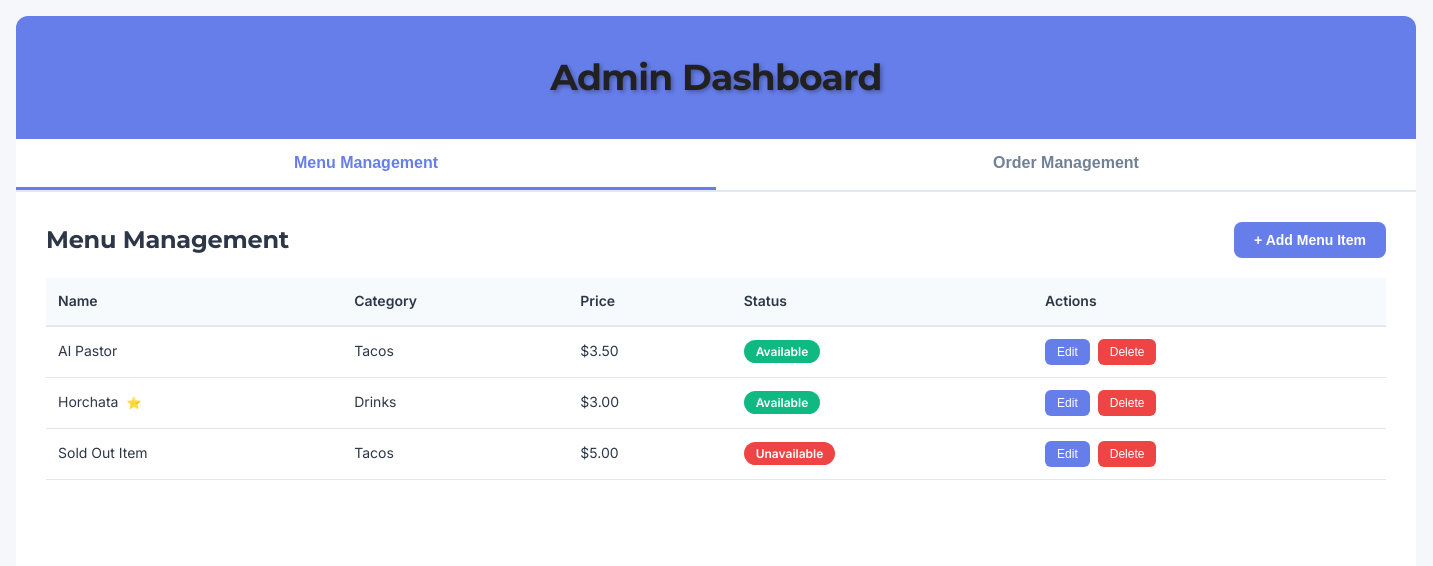
AdminDashboard Page › handles delete menu item error
Click the button "Delete" in the row of "Al Pastor" at (1127, 352), box x1=1098 y1=339 x2=1156 y2=365
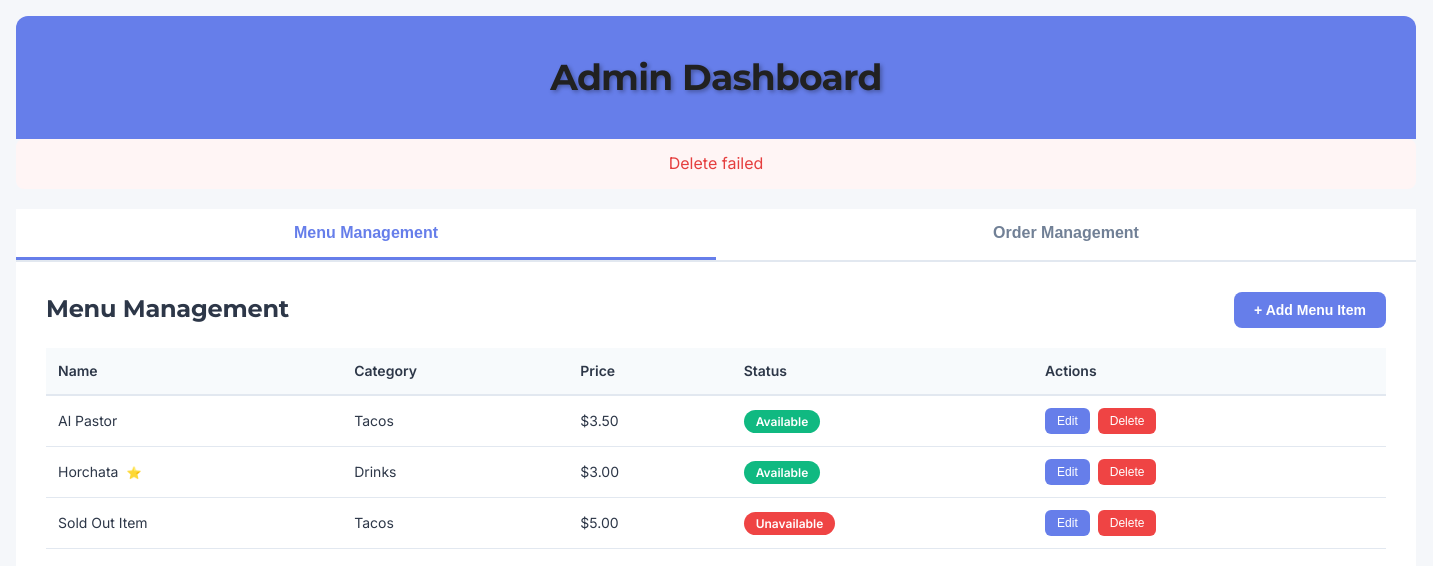
expect the text "Delete failed" is shown: met, box x1=16 y1=139 x2=1416 y2=189
